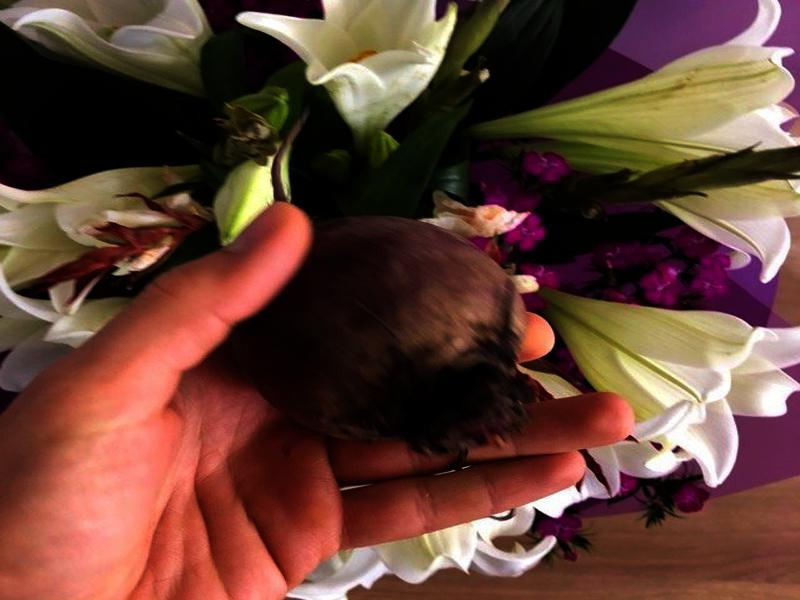Beet: (235, 106, 531, 445)
